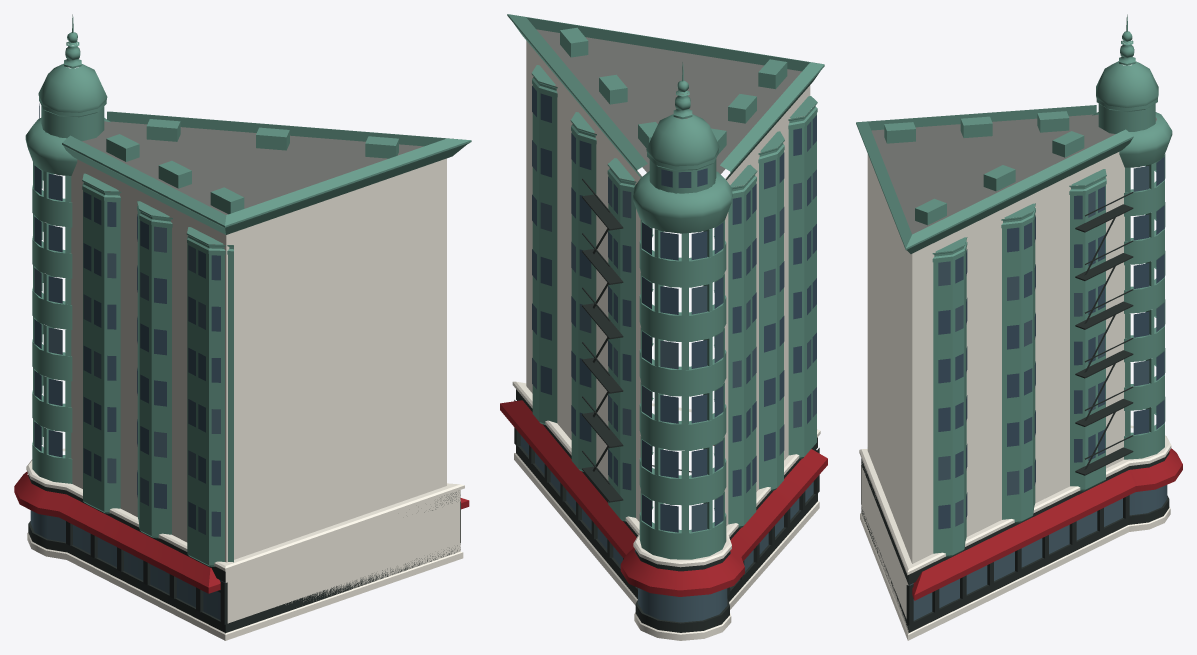
File: columbus-tower-far.glb
3 renders of one model, left to right at view 1: azimuth 30°, elevation 25°; view 2: azimuth 150°, elevation 25°; view 3: azimuth 270°, elevation 25°, orthographic. The views are drawn at different scales.
Parts seen in each view (by area): view 1: columbus-tower-0-tile, columbus-tower-0-copper, columbus-tower-0-roof, columbus-tower-0-glass, columbus-tower-0-glow, columbus-tower-0-base, columbus-tower-0-awning; view 2: columbus-tower-0-copper, columbus-tower-0-tile, columbus-tower-0-glass, columbus-tower-0-roof, columbus-tower-0-awning, columbus-tower-0-base, columbus-tower-0-glow; view 3: columbus-tower-0-tile, columbus-tower-0-copper, columbus-tower-0-roof, columbus-tower-0-glass, columbus-tower-0-base, columbus-tower-0-glow, columbus-tower-0-awning.
Boxes of the visible parts, bbox=[...] form: columbus-tower-0-tile: bbox=[26, 158, 464, 640]; columbus-tower-0-copper: bbox=[25, 14, 471, 566]; columbus-tower-0-roof: bbox=[82, 121, 423, 214]; columbus-tower-0-glass: bbox=[34, 103, 220, 536]; columbus-tower-0-glow: bbox=[30, 226, 225, 619]; columbus-tower-0-base: bbox=[28, 474, 460, 633]; columbus-tower-0-awning: bbox=[14, 471, 469, 593]; columbus-tower-0-copper: bbox=[507, 14, 824, 559]; columbus-tower-0-tile: bbox=[512, 41, 820, 640]; columbus-tower-0-glass: bbox=[532, 86, 816, 532]; columbus-tower-0-roof: bbox=[536, 29, 801, 174]; columbus-tower-0-awning: bbox=[500, 400, 827, 596]; columbus-tower-0-base: bbox=[514, 178, 819, 632]; columbus-tower-0-glow: bbox=[520, 121, 816, 622]; columbus-tower-0-tile: bbox=[859, 152, 1171, 640]; columbus-tower-0-copper: bbox=[856, 14, 1172, 557]; columbus-tower-0-roof: bbox=[871, 114, 1156, 234]; columbus-tower-0-glass: bbox=[938, 157, 1164, 529]; columbus-tower-0-base: bbox=[861, 192, 1169, 632]; columbus-tower-0-glow: bbox=[909, 166, 1167, 620]; columbus-tower-0-awning: bbox=[912, 448, 1182, 600].
Bounding box in the file's own units: 19.84 × 29.8 × 17.66.
